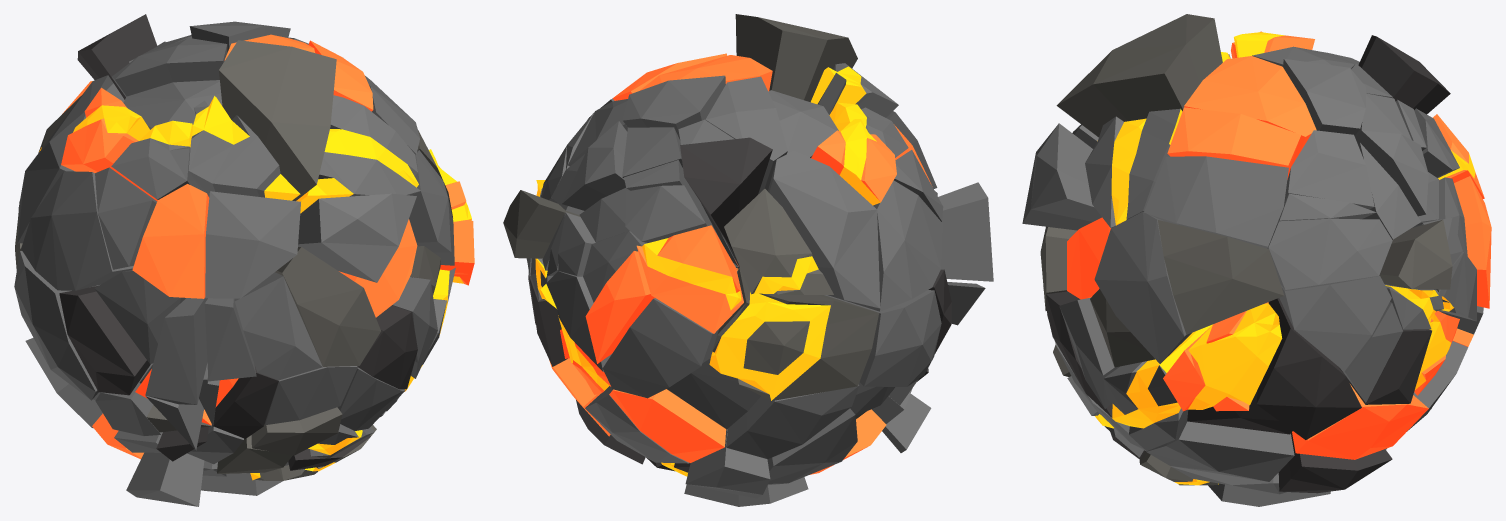
The model's file is Tresh_2_Model.fbx.
3 views of the same model, side by side, from view 1: azimuth 30°, elevation 25°; view 2: azimuth 150°, elevation 25°; view 3: azimuth 270°, elevation 25° (orthographic). The views are drawn at different scales.
Visible parts, largest first — view 1: Tresh_2; view 2: Tresh_2; view 3: Tresh_2.
Boxes of the visible parts, left/top/right/bottom form: Tresh_2: left=14, top=14, right=474, bottom=506; Tresh_2: left=503, top=14, right=993, bottom=506; Tresh_2: left=1022, top=14, right=1491, bottom=506.
Size of the model in its own units: 8.05 by 8.76 by 8.
